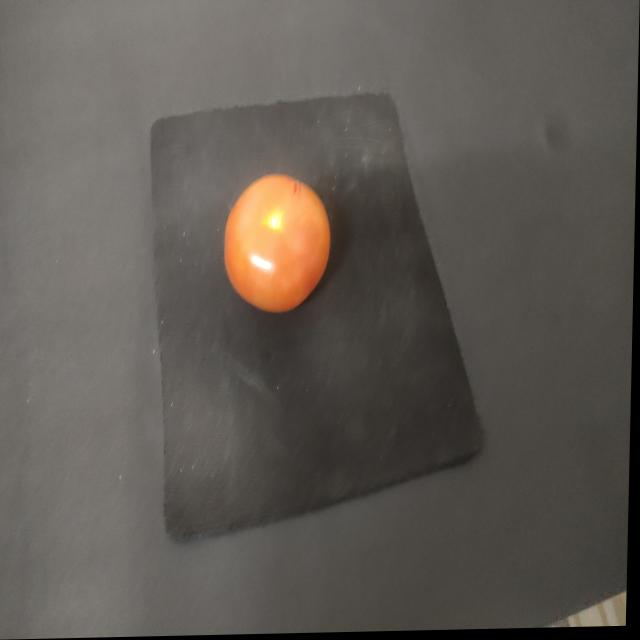sari: (206, 162, 349, 325)
